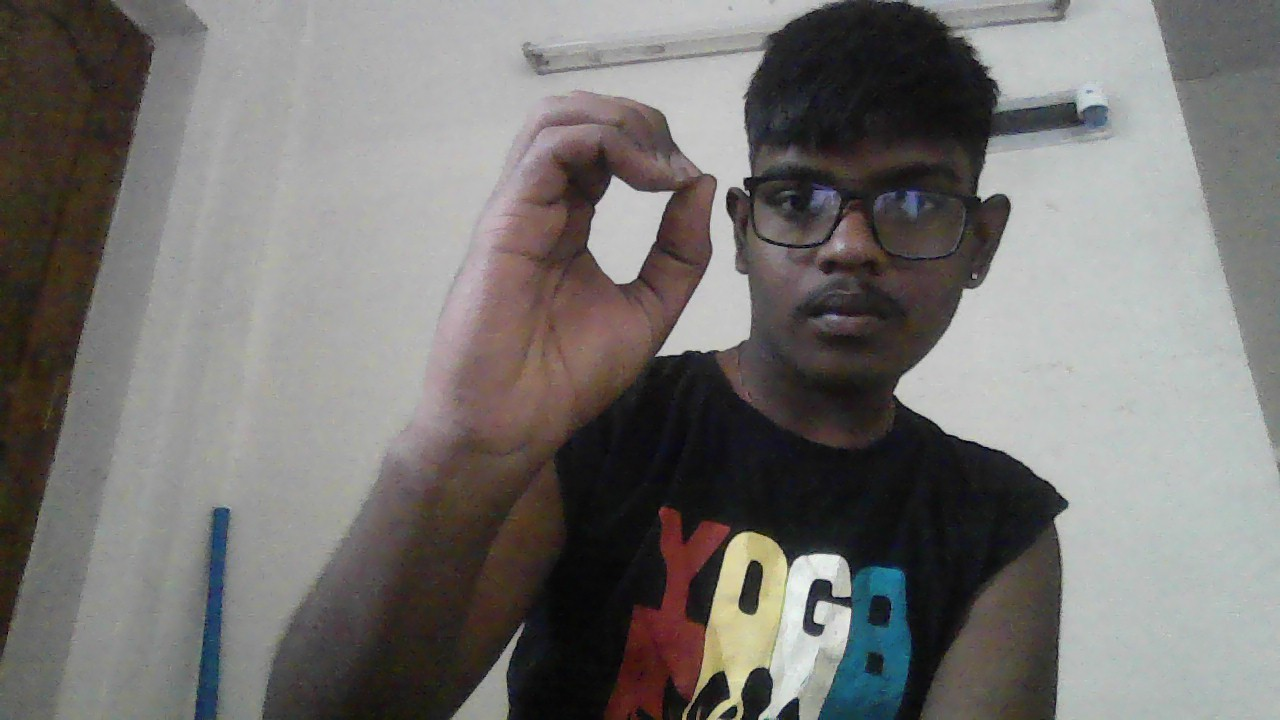O: (444, 90, 717, 456)
